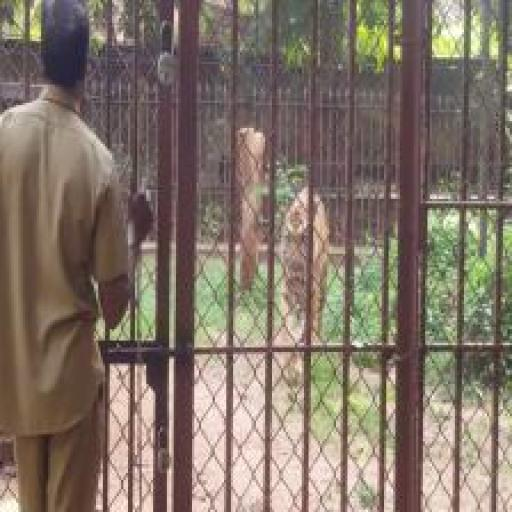Tiger: (220, 98, 361, 393)
